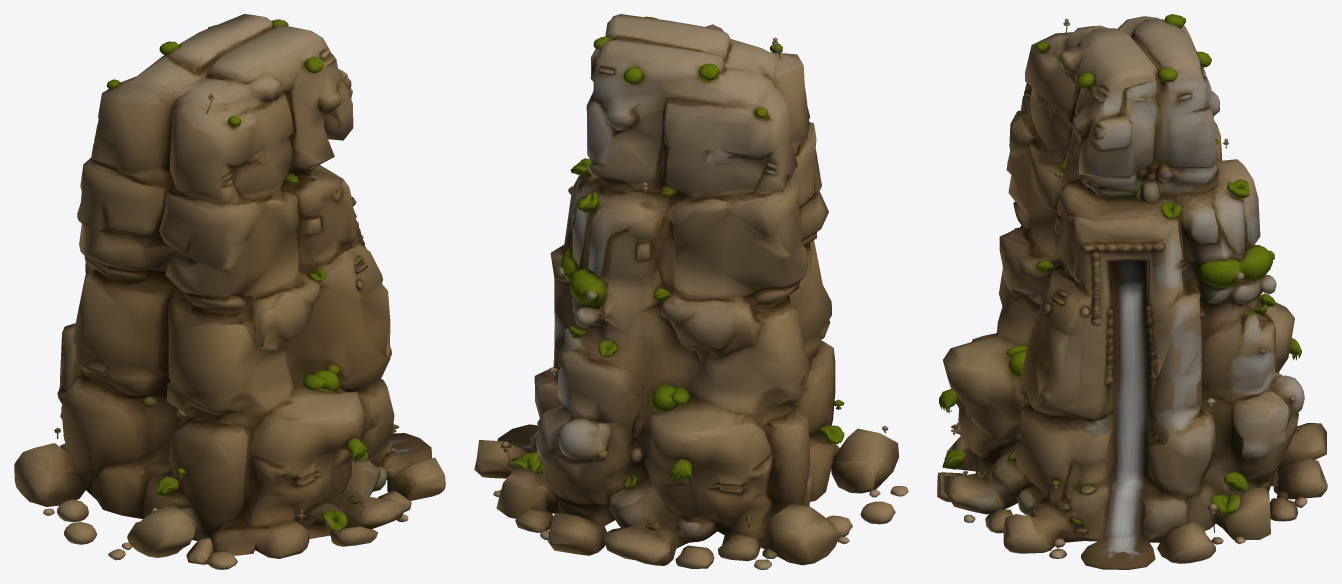
File: ch7_waterfall_cliff.glb
The picture shows the model from 3 angles, left to right: view 1: azimuth 30°, elevation 25°; view 2: azimuth 150°, elevation 25°; view 3: azimuth 270°, elevation 25°; orthographic projection. The views are drawn at different scales.
Parts seen in each view (by area): view 1: tripo_node_9d7ade54-06a1-4f0d-8d2b-cd53d888e29c; view 2: tripo_node_9d7ade54-06a1-4f0d-8d2b-cd53d888e29c; view 3: tripo_node_9d7ade54-06a1-4f0d-8d2b-cd53d888e29c.
Part boxes in pixels (box(x1,y1,x2,y2)): tripo_node_9d7ade54-06a1-4f0d-8d2b-cd53d888e29c: box(14, 14, 445, 569); tripo_node_9d7ade54-06a1-4f0d-8d2b-cd53d888e29c: box(474, 14, 908, 569); tripo_node_9d7ade54-06a1-4f0d-8d2b-cd53d888e29c: box(937, 14, 1327, 569).
Bounding box in the file's own units: 0.8691 × 0.998 × 0.791.
1 material, 1 textured.
